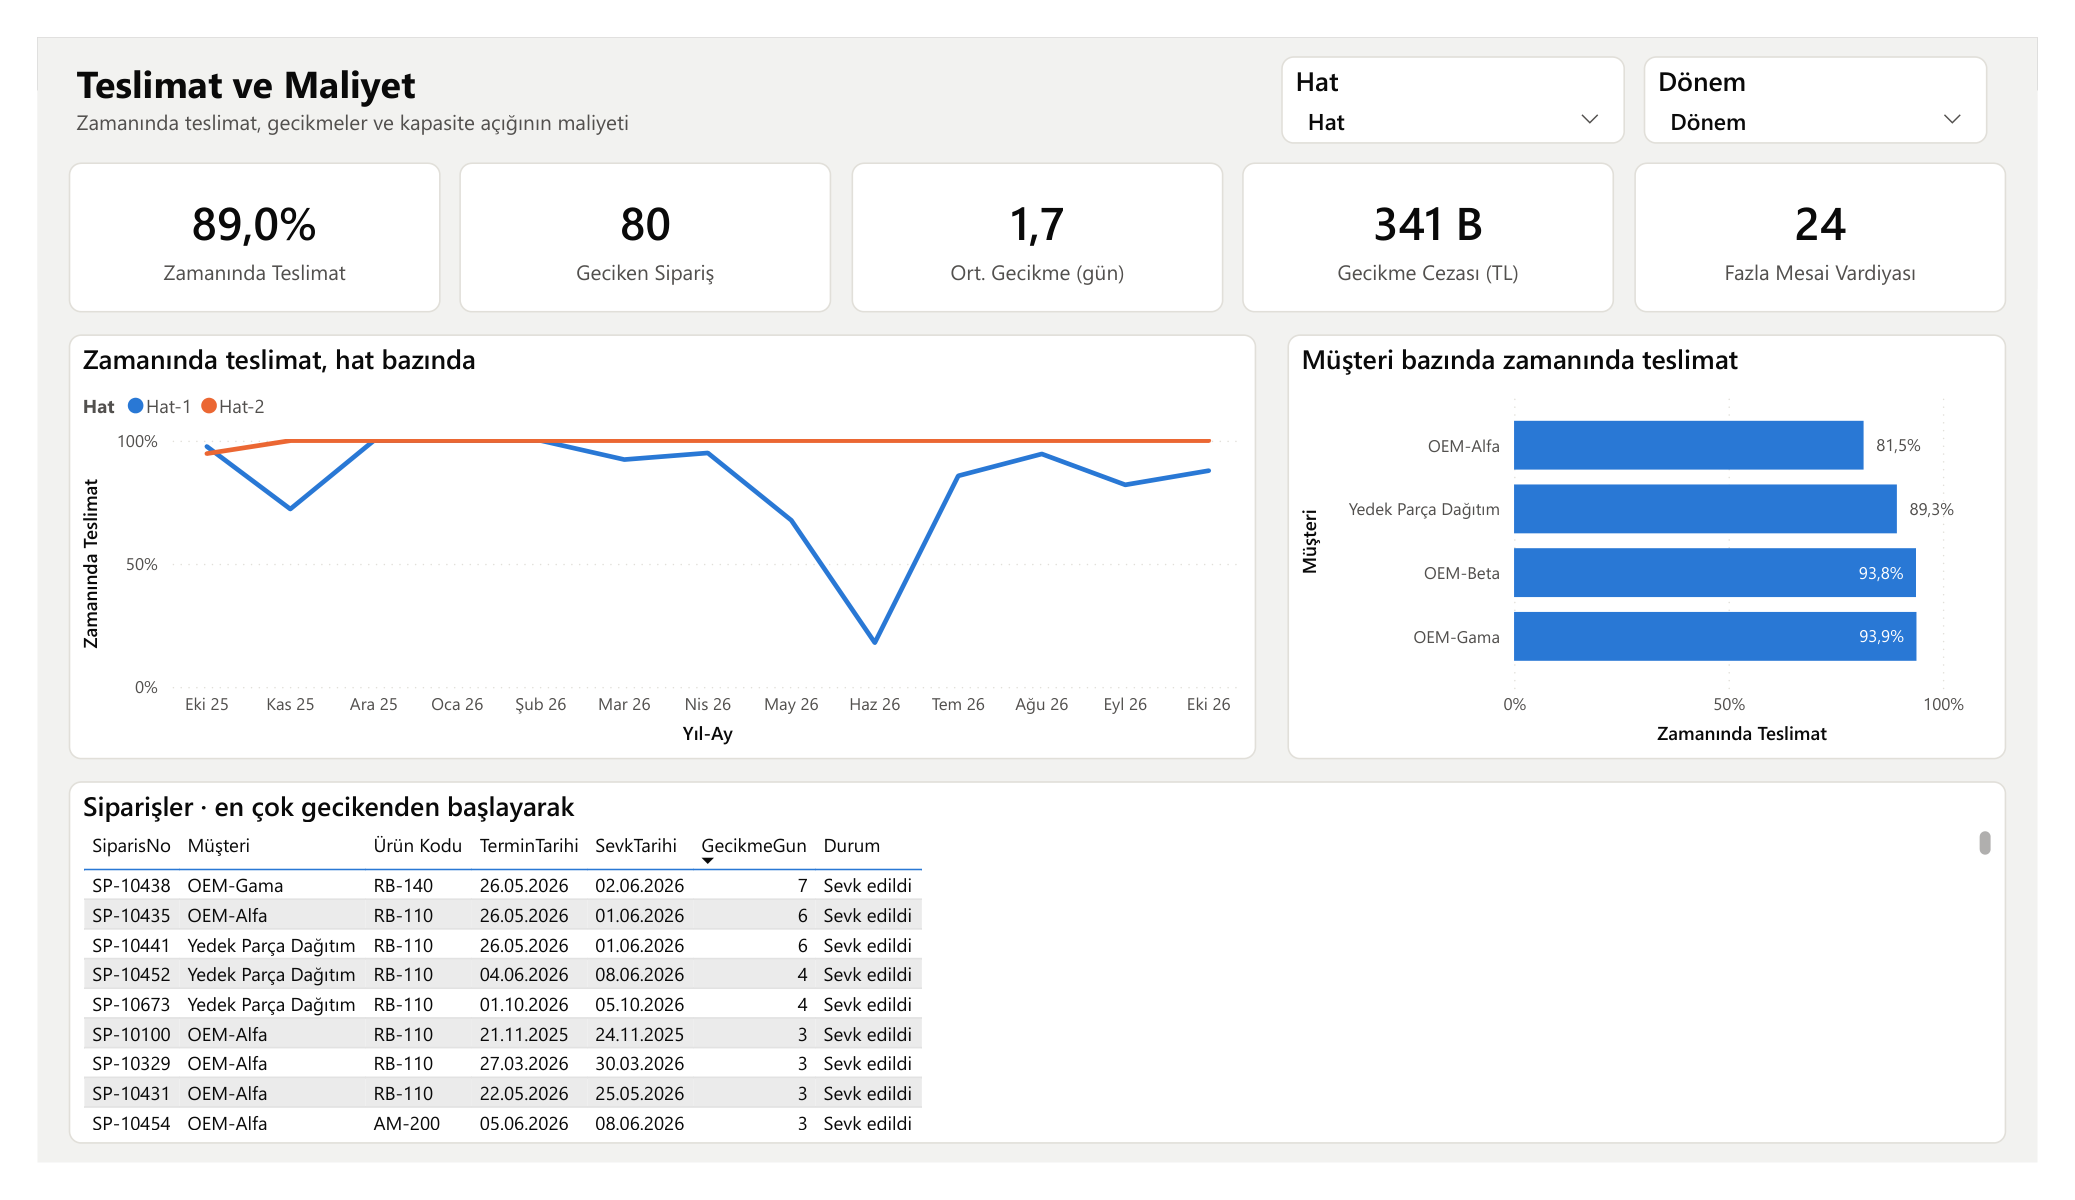

Layout of this report page (visuals, bound fields, positions):
{"tool":"powerbi","page":{"name":"Teslimat ve Maliyet","canvas":[1280,720],"ordinal":4},"visuals":[{"type":"textbox","box":[20,8,760,60],"z":0},{"type":"slicer","title":"Hat","fields":{"Values":["DimUrun.Hat"]},"box":[796,12,220,56],"z":1000},{"type":"slicer","title":"Dönem","fields":{"Values":["DimTarih.Dönem"]},"box":[1028,12,220,56],"z":2000},{"type":"card","fields":{"Values":["_Ölçüler.Zamanında Teslimat"]},"box":[20,80,238,96],"z":3000},{"type":"card","fields":{"Values":["_Ölçüler.Geciken Sipariş"]},"box":[270,80,238,96],"z":4000},{"type":"card","fields":{"Values":["_Ölçüler.Ort. Gecikme (gün)"]},"box":[521,80,238,96],"z":5000},{"type":"card","fields":{"Values":["_Ölçüler.Gecikme Cezası (TL)"]},"box":[771,80,238,96],"z":6000},{"type":"card","fields":{"Values":["_Ölçüler.Fazla Mesai Vardiyası"]},"box":[1022,80,238,96],"z":7000},{"type":"lineChart","title":"Zamanında teslimat, hat bazında","fields":{"Category":["DimTarih.Yıl-Ay"],"Series":["DimUrun.Hat"],"Y":["_Ölçüler.Zamanında Teslimat"]},"box":[20,190,760,272],"z":8000},{"type":"clusteredBarChart","title":"Müşteri bazında zamanında teslimat","fields":{"Category":["DimMusteri.Müşteri"],"Y":["_Ölçüler.Zamanında Teslimat"]},"box":[800,190,460,272],"z":9000},{"type":"tableEx","title":"Siparişler · en çok gecikenden başlayarak","fields":{"Values":["FaktSiparis.SiparisNo","DimMusteri.Müşteri","DimUrun.Ürün Kodu","FaktSiparis.TerminTarihi","FaktSiparis.SevkTarihi","FaktSiparis.GecikmeGun","FaktSiparis.Durum"]},"box":[20,476,1240,232],"z":10000}]}

Visuals, with their boxes on the page's 1280x720 design canvas (x1, y1, x2, y2). These are canvas units, not pixel positions in the 2075x1200 screenshot, which may show the page scaled, cropped or inside an application window:
textbox: box(20, 8, 780, 68)
"Hat" slicer: box(796, 12, 1016, 68)
"Dönem" slicer: box(1028, 12, 1248, 68)
card - _Ölçüler.Zamanında Teslimat: box(20, 80, 258, 176)
card - _Ölçüler.Geciken Sipariş: box(270, 80, 508, 176)
card - _Ölçüler.Ort. Gecikme (gün): box(521, 80, 759, 176)
card - _Ölçüler.Gecikme Cezası (TL): box(771, 80, 1009, 176)
card - _Ölçüler.Fazla Mesai Vardiyası: box(1022, 80, 1260, 176)
"Zamanında teslimat, hat bazında" lineChart: box(20, 190, 780, 462)
"Müşteri bazında zamanında teslimat" clusteredBarChart: box(800, 190, 1260, 462)
"Siparişler · en çok gecikenden başlayarak" tableEx: box(20, 476, 1260, 708)
